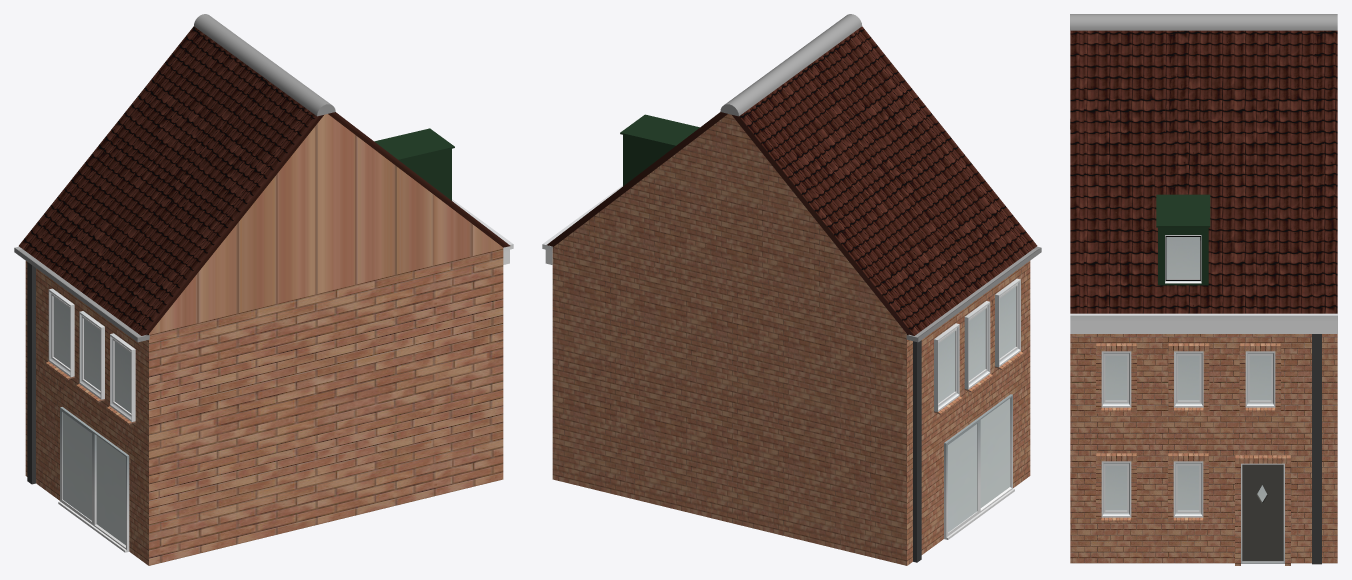
Rendered from It_Heafek_8.fbx.
3 renders of one model, left to right at view 1: azimuth 30°, elevation 25°; view 2: azimuth 150°, elevation 25°; view 3: azimuth 270°, elevation 25°, orthographic. The views are drawn at different scales.
Visible parts, largest first — view 1: It_Heafek_8; view 2: It_Heafek_8; view 3: It_Heafek_8.
Part boxes in pixels (box(x1,y1,x2,y2)): It_Heafek_8: box(14, 14, 513, 565); It_Heafek_8: box(542, 14, 1041, 565); It_Heafek_8: box(1070, 14, 1337, 565).
Size of the model in its own units: 1005 by 1069 by 571.
